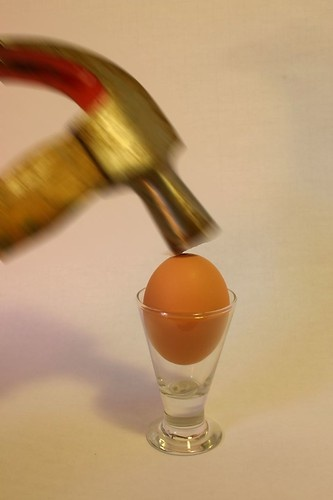hammer: (0, 33, 218, 258)
